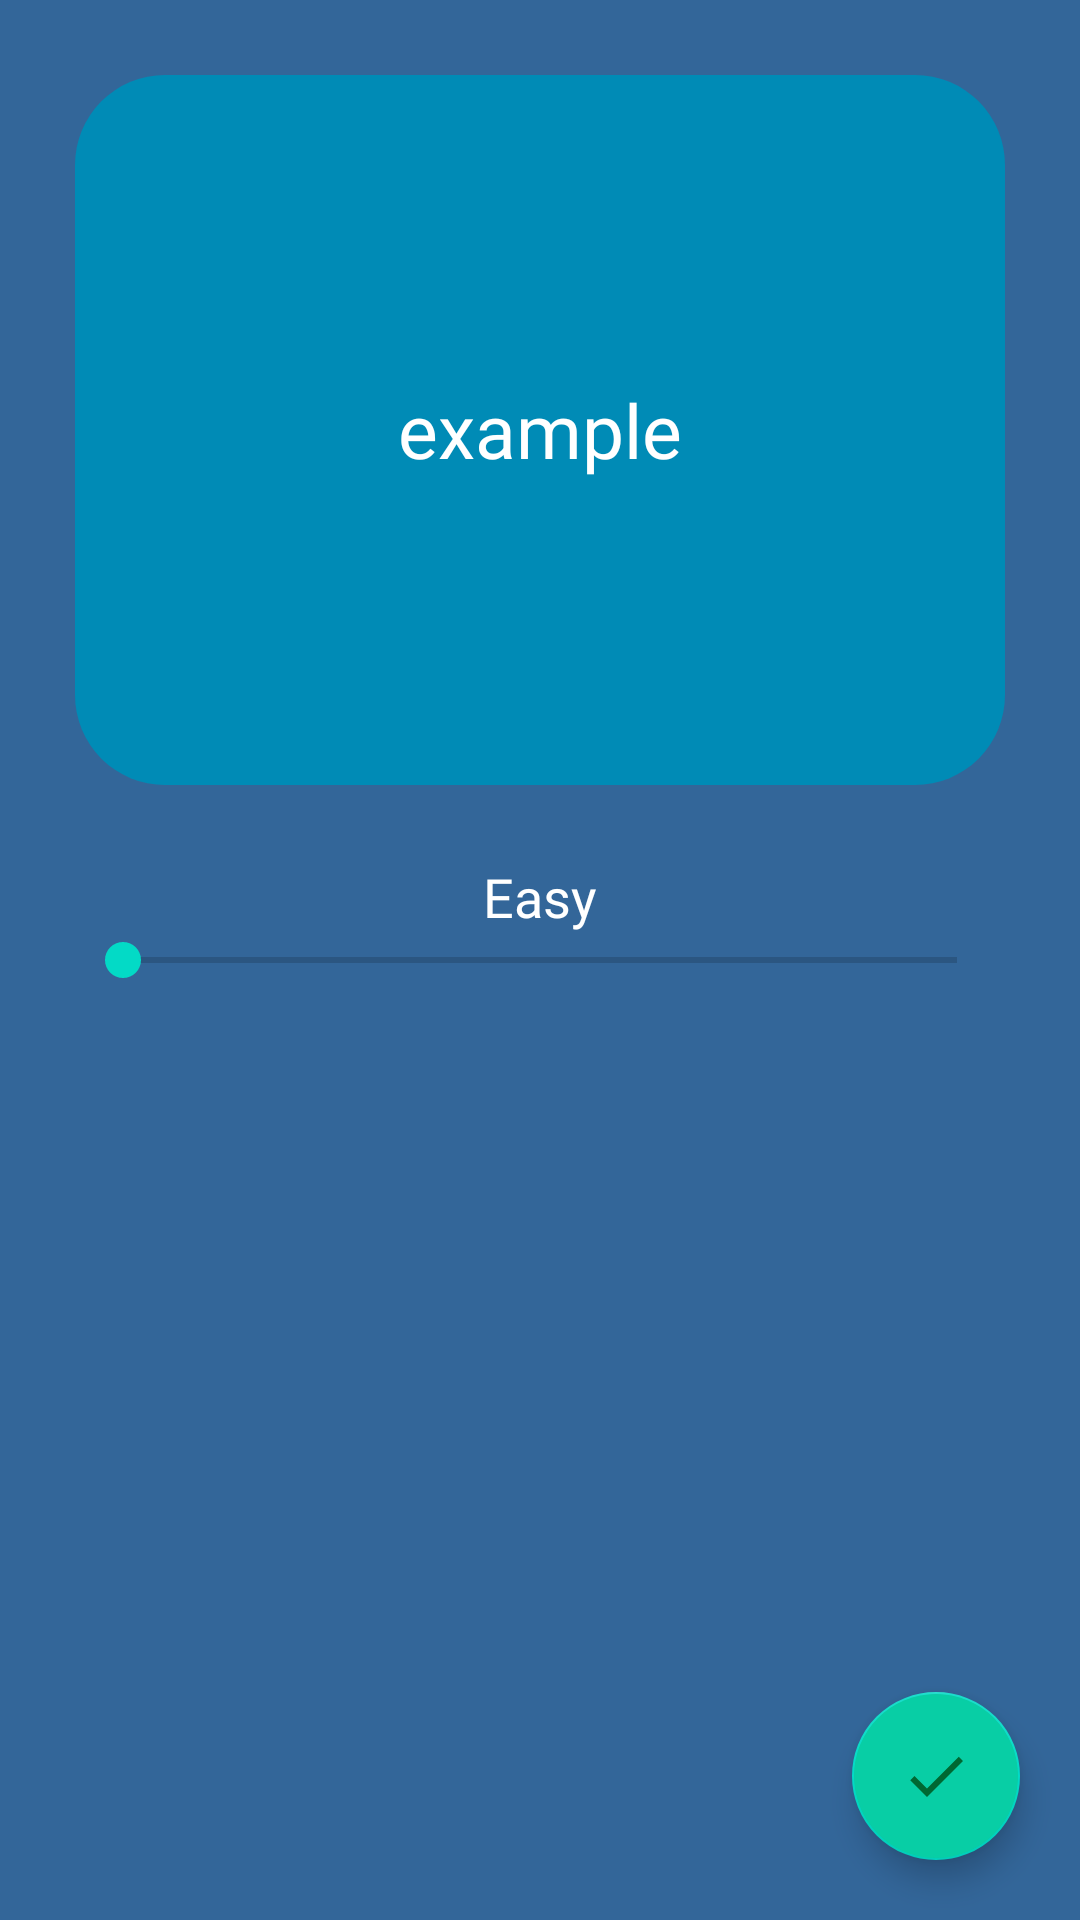

Icons on this 1080px×1920px Android screen, each with its box as [x1, y1, x2, y2]:
done: [852, 1692, 1020, 1860]
